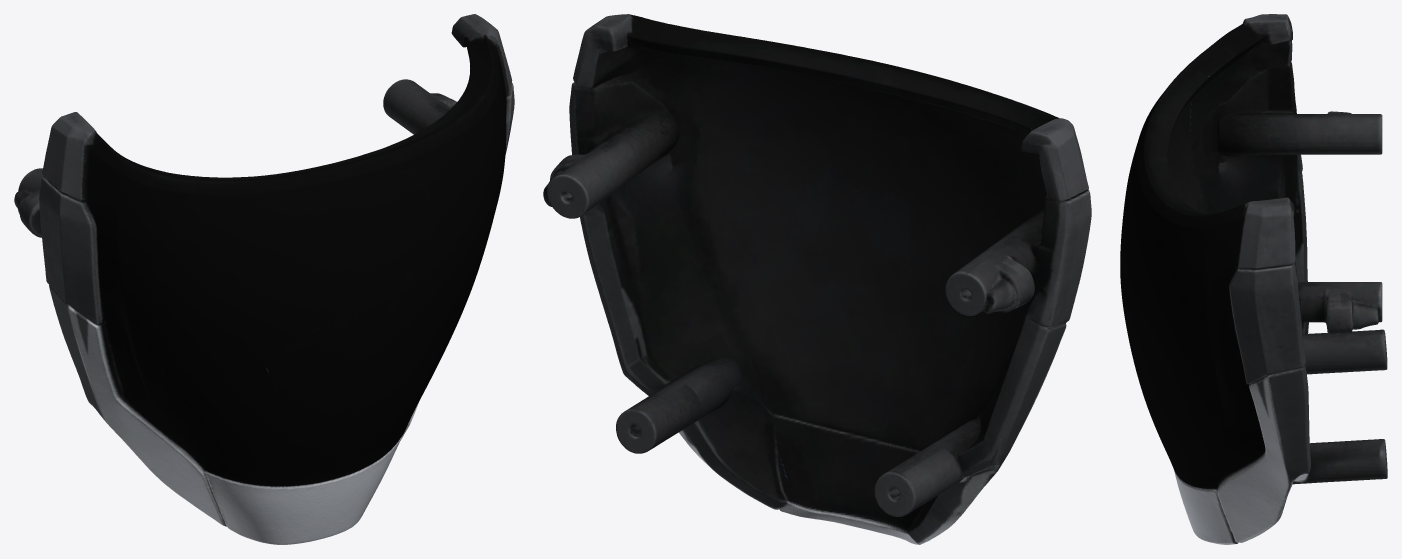
3 views of the same model, side by side, from view 1: azimuth 30°, elevation 25°; view 2: azimuth 150°, elevation 25°; view 3: azimuth 270°, elevation 25° (orthographic). The views are drawn at different scales.
Parts seen in each view (by area): view 1: H1_Front_Visor; view 2: H1_Front_Visor; view 3: H1_Front_Visor.
Part boxes in pixels (box(x1,y1,x2,y2)): H1_Front_Visor: box(14, 14, 514, 544); H1_Front_Visor: box(543, 14, 1091, 544); H1_Front_Visor: box(1120, 14, 1387, 544).
Bounding box in the file's own units: 0.7794 × 0.723 × 0.4185.
Materials: 1 (1 with a texture image).
